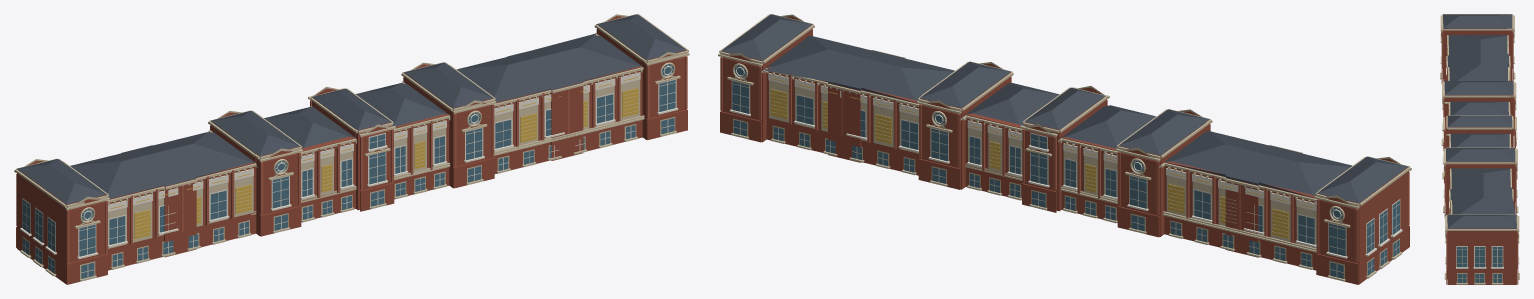
File: artis-library.glb
The picture shows the model from 3 angles, left to right: view 1: azimuth 30°, elevation 25°; view 2: azimuth 150°, elevation 25°; view 3: azimuth 270°, elevation 25°; orthographic projection. The views are drawn at different scales.
Parts seen in each view (by area): view 1: artis-library; view 2: artis-library; view 3: artis-library.
Part boxes in pixels (<box>): artis-library: <box>14,14,689,284</box>; artis-library: <box>718,14,1411,284</box>; artis-library: <box>1440,14,1519,284</box>.
Bounding box in the file's own units: 80.87 × 10.8 × 12.59.
